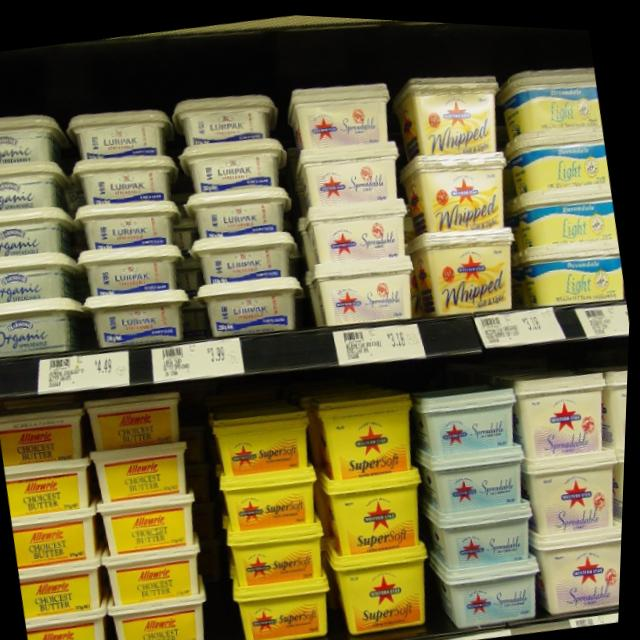q289: (517, 360, 616, 470), (527, 450, 624, 539), (539, 528, 625, 613)
